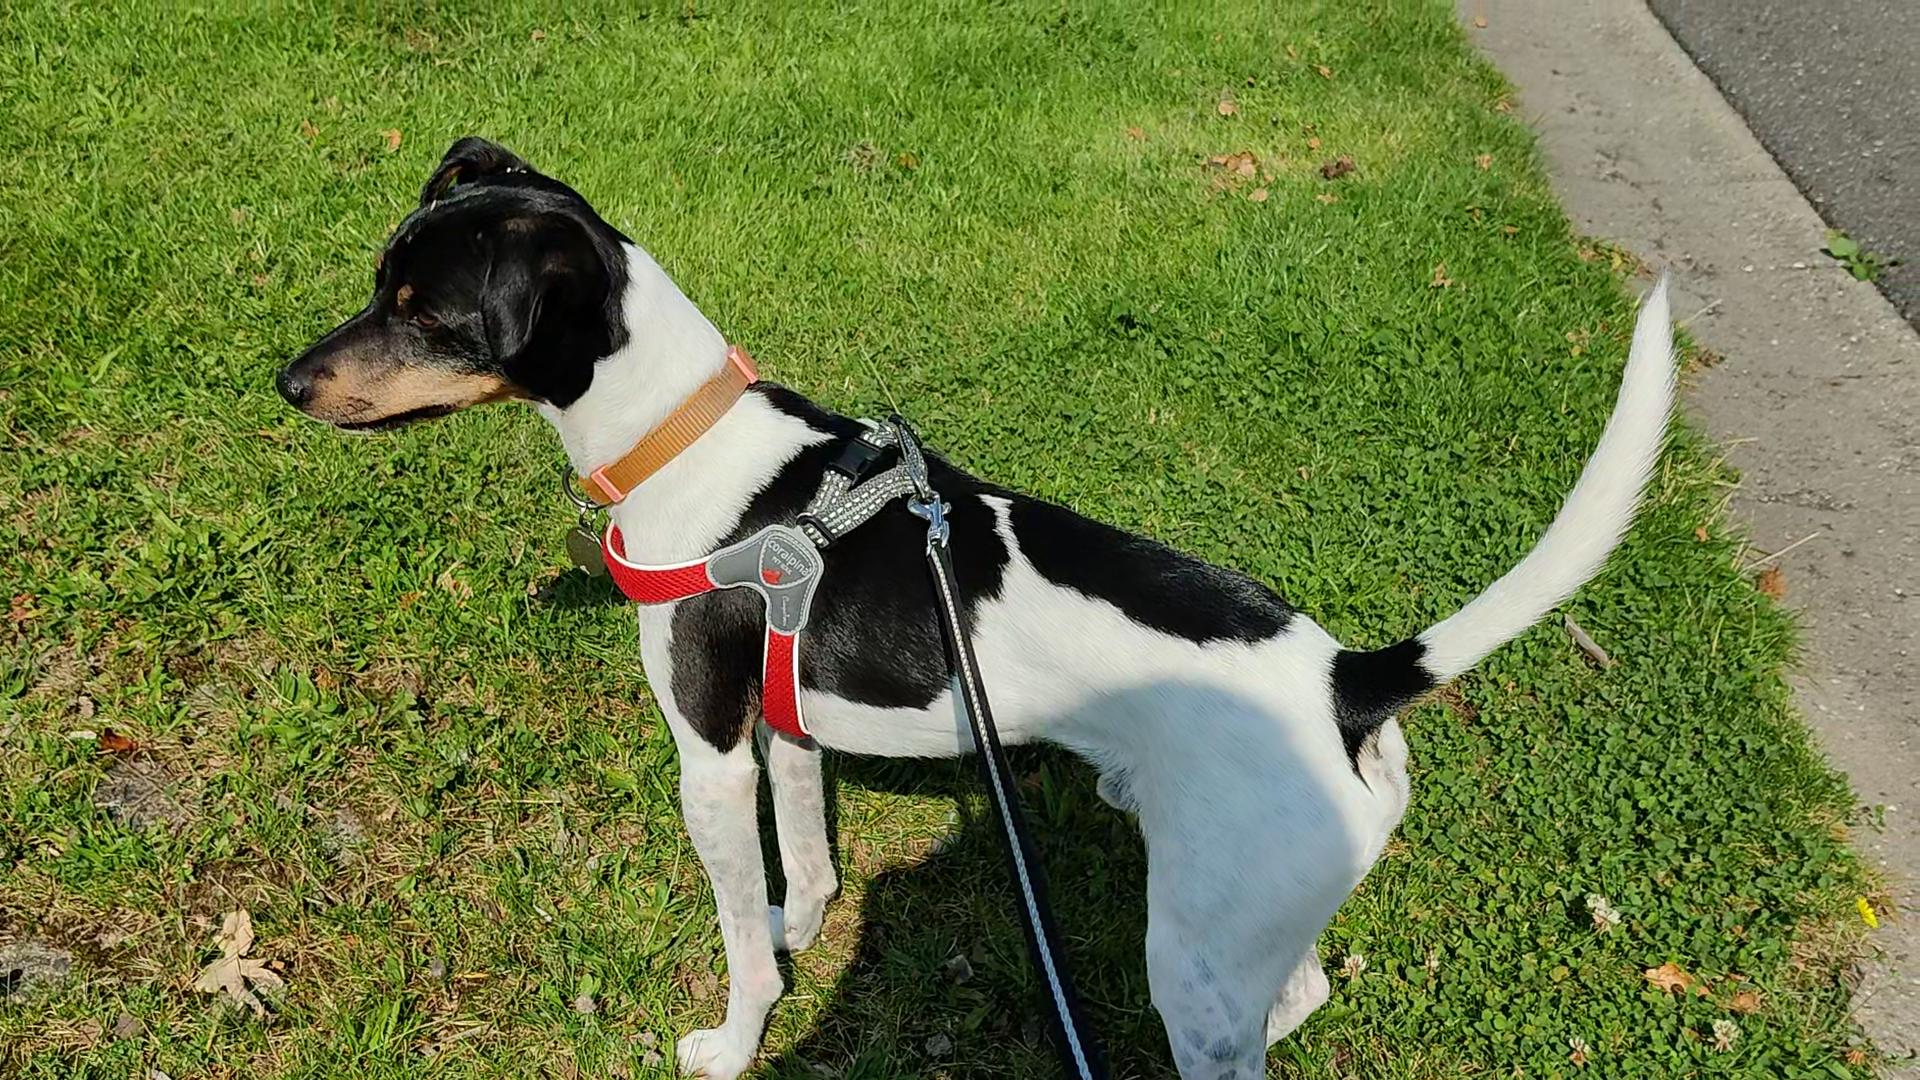Dog: (262, 102, 1695, 1079)
